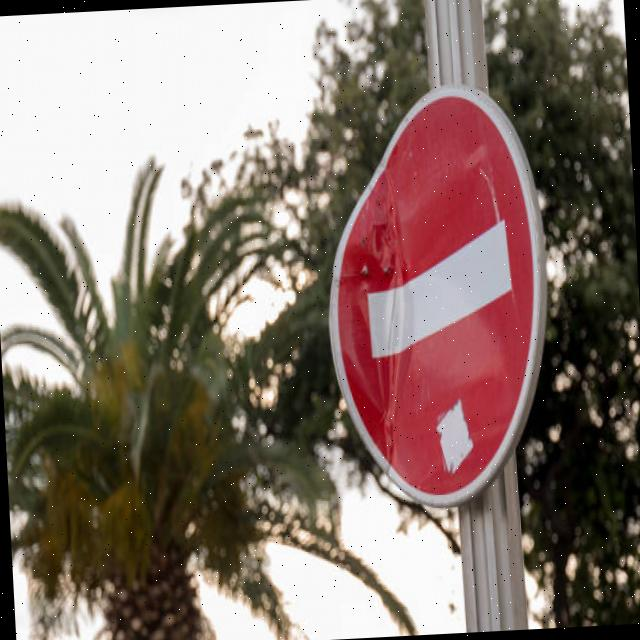do_not_enter: (302, 74, 563, 517)
